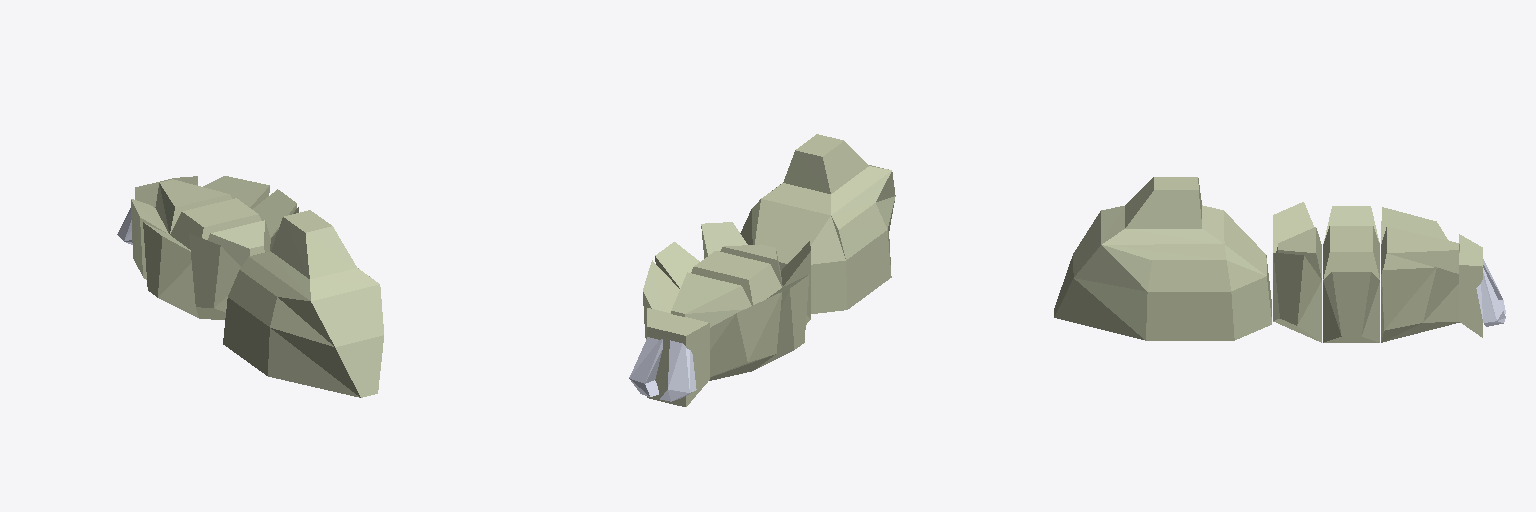
The model's file is rumad_ack.obj.
The picture shows the model from 3 angles: view 1: azimuth 30°, elevation 25°; view 2: azimuth 150°, elevation 25°; view 3: azimuth 270°, elevation 25°; orthographic projection.
Visible parts, largest first — view 1: cube1_sep18, cube1_sep24, cube1_sep28, cube1_sep20, cube19; view 2: cube1_sep18, cube1_sep20, cube1_sep24, cube19, cube1_sep28, cube31, cube31_copy33; view 3: cube1_sep18, cube1_sep20, cube1_sep24, cube1_sep28, cube19, cube31_copy33.
Part boxes in pixels (left/top/right/bottom): cube1_sep18: left=223, top=210, right=383, bottom=397; cube1_sep24: left=143, top=189, right=296, bottom=317; cube1_sep28: left=189, top=207, right=298, bottom=319; cube1_sep20: left=131, top=176, right=269, bottom=279; cube19: left=135, top=176, right=197, bottom=207; cube1_sep18: left=740, top=134, right=895, bottom=313; cube1_sep20: left=643, top=260, right=781, bottom=380; cube1_sep24: left=655, top=242, right=808, bottom=368; cube19: left=647, top=308, right=709, bottom=406; cube1_sep28: left=701, top=222, right=810, bottom=324; cube31: left=660, top=340, right=696, bottom=401; cube31_copy33: left=629, top=337, right=662, bottom=396; cube1_sep18: left=1054, top=177, right=1271, bottom=340; cube1_sep20: left=1381, top=207, right=1459, bottom=342; cube1_sep24: left=1323, top=206, right=1379, bottom=342; cube1_sep28: left=1273, top=202, right=1321, bottom=342; cube19: left=1459, top=234, right=1482, bottom=337; cube31_copy33: left=1476, top=268, right=1505, bottom=326.
Size of the model in its own units: 2.35 by 2.42 by 6.83.